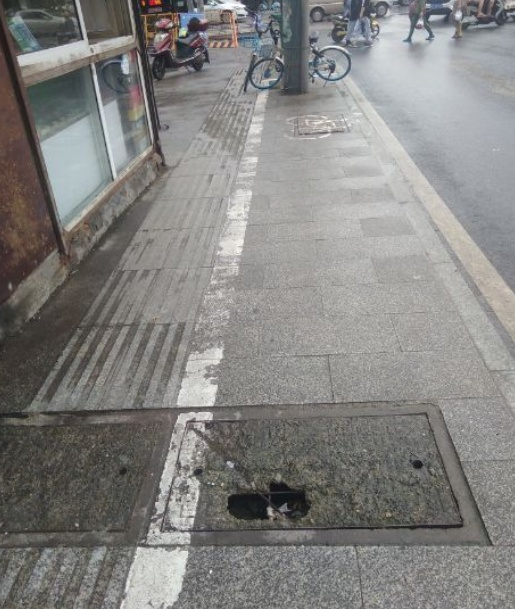broke: (144, 405, 488, 549)
good: (1, 409, 173, 544)
